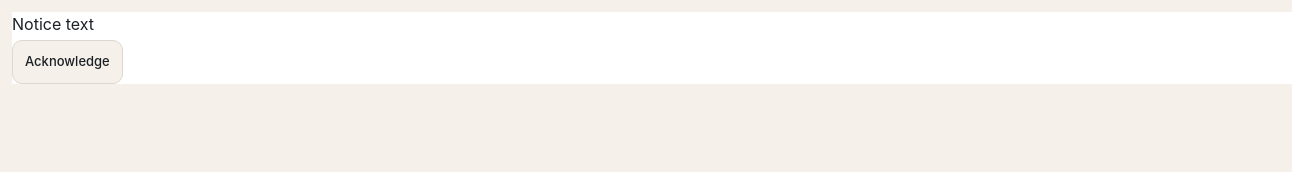
Scenario: receipt clicks do not open details, dismiss or delete; swipe still reveals deletion
This screenshot has width=1292, height=172.
Later steps or results of the test are not shown.
Click the button "Acknowledge": (67, 62) [12, 40, 123, 84]
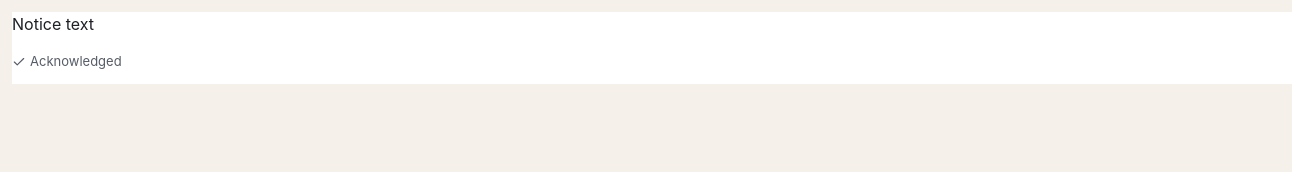
Check: the message "Acknowledged" is shown, box [12, 53, 122, 69]
